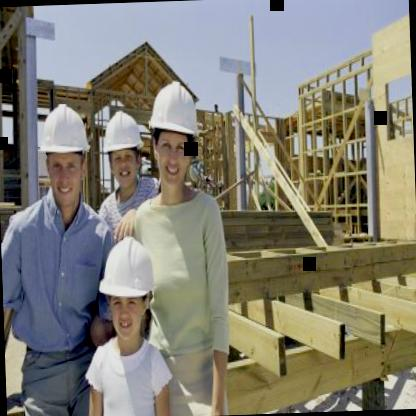helmet: (92, 233, 164, 358), (142, 81, 208, 196), (34, 94, 98, 207), (98, 104, 152, 195)
